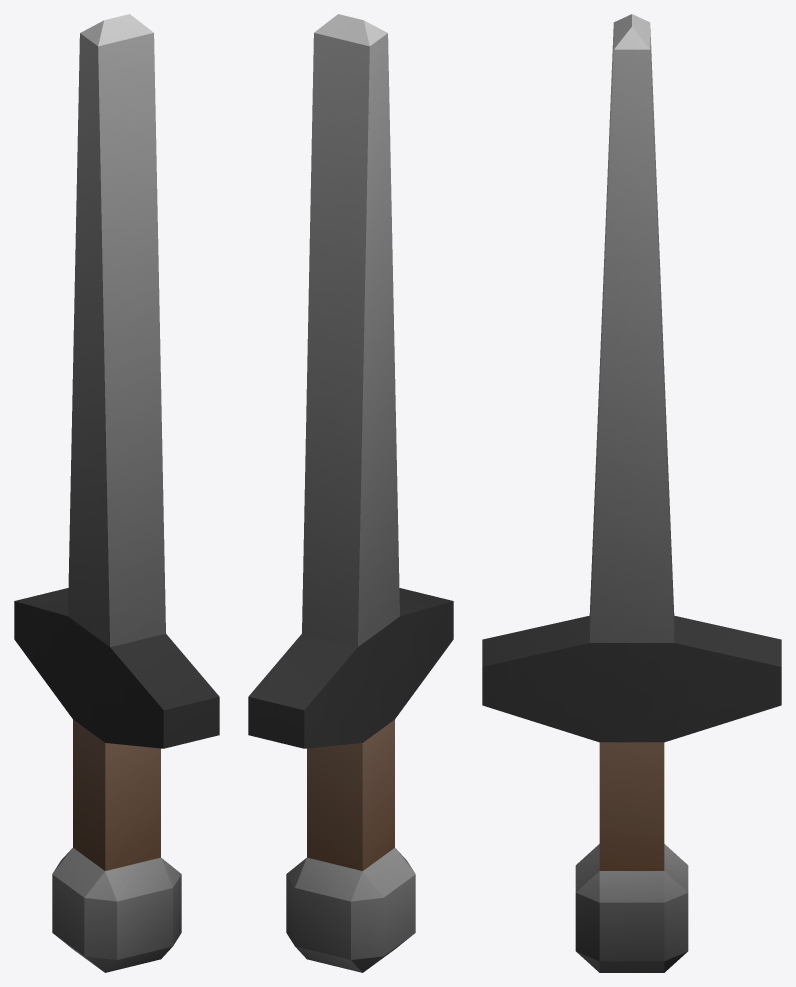
File: Dagger.fbx
3 renders of one model, left to right at view 1: azimuth 30°, elevation 25°; view 2: azimuth 150°, elevation 25°; view 3: azimuth 270°, elevation 25°, orthographic.
Parts seen in each view (by area): view 1: Cube; view 2: Cube; view 3: Cube.
Boxes of the visible parts, x1=… form: Cube: x1=14, y1=14, x2=219, y2=972; Cube: x1=248, y1=14, x2=453, y2=972; Cube: x1=482, y1=14, x2=781, y2=972.
Bounding box in the file's own units: 57.6 × 530 × 153.
